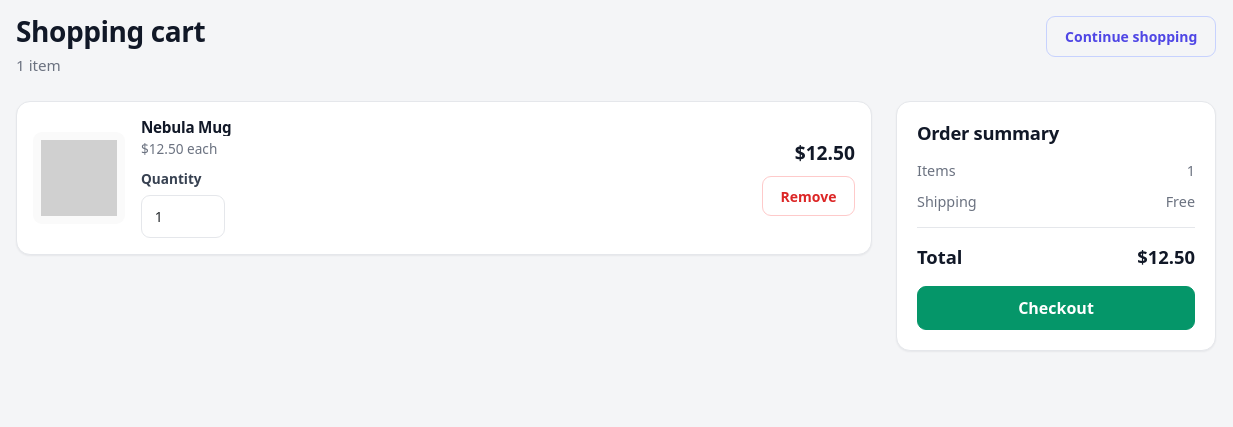
Test: checkout › keeps the cart and surfaces the error when the order fails
The width and height of the screenshot is (1233, 427).
Click the button "Checkout".
click(1056, 308)  # box [917, 286, 1195, 330]
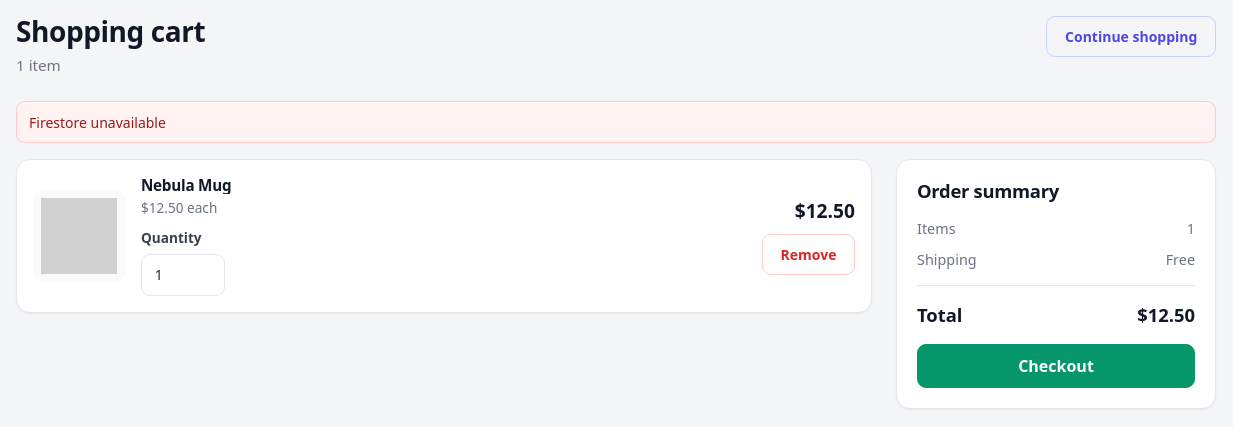
Now the message reads "Firestore unavailable", box [29, 113, 166, 132]
